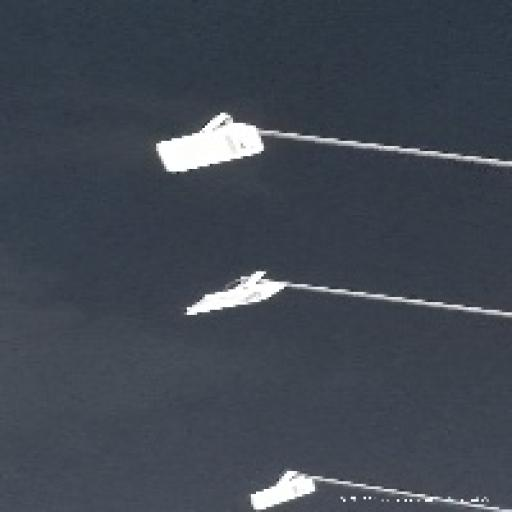Not Working: (147, 108, 291, 184), (181, 259, 300, 332), (233, 453, 330, 512)
